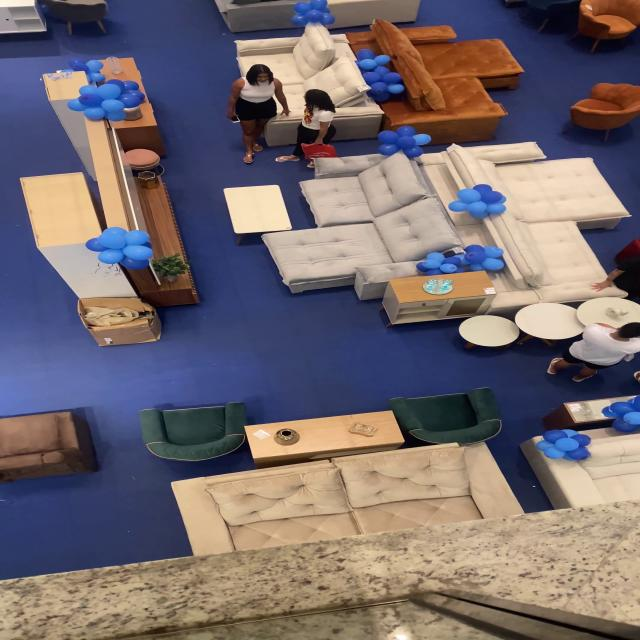person: (544, 310, 638, 390), (205, 61, 272, 165), (288, 84, 362, 168)
